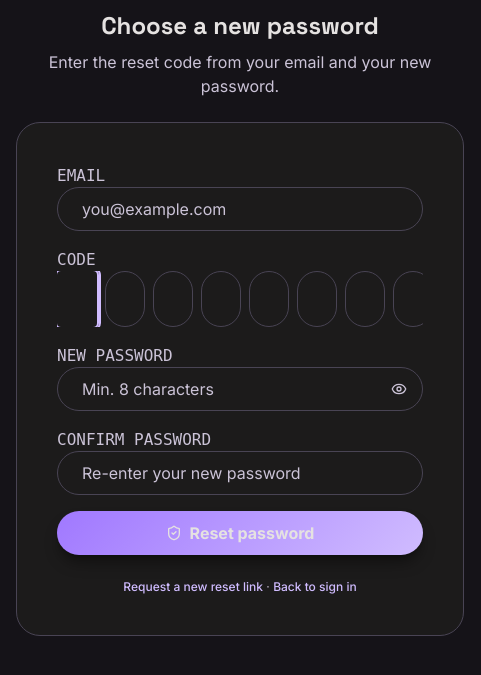
ResetPasswordPage › password strength indicator › shows strength indicator when password field has value
Type "abc" into the password field labelled "New password" at (240, 389), box [57,367,423,411]
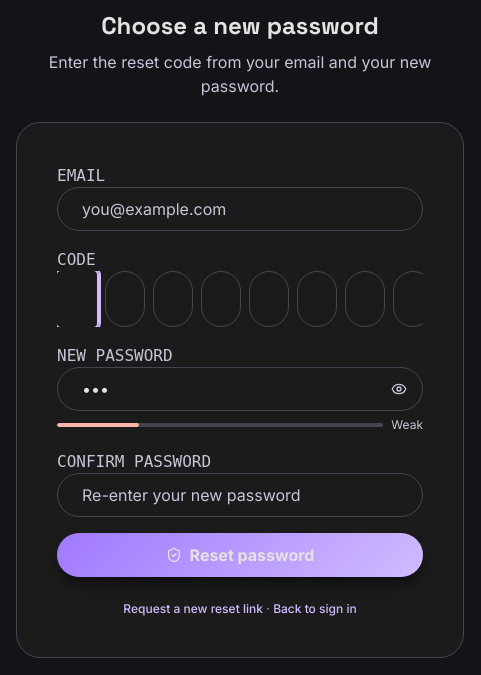
Check: the text "Weak" is shown, box [391,417,423,433]
